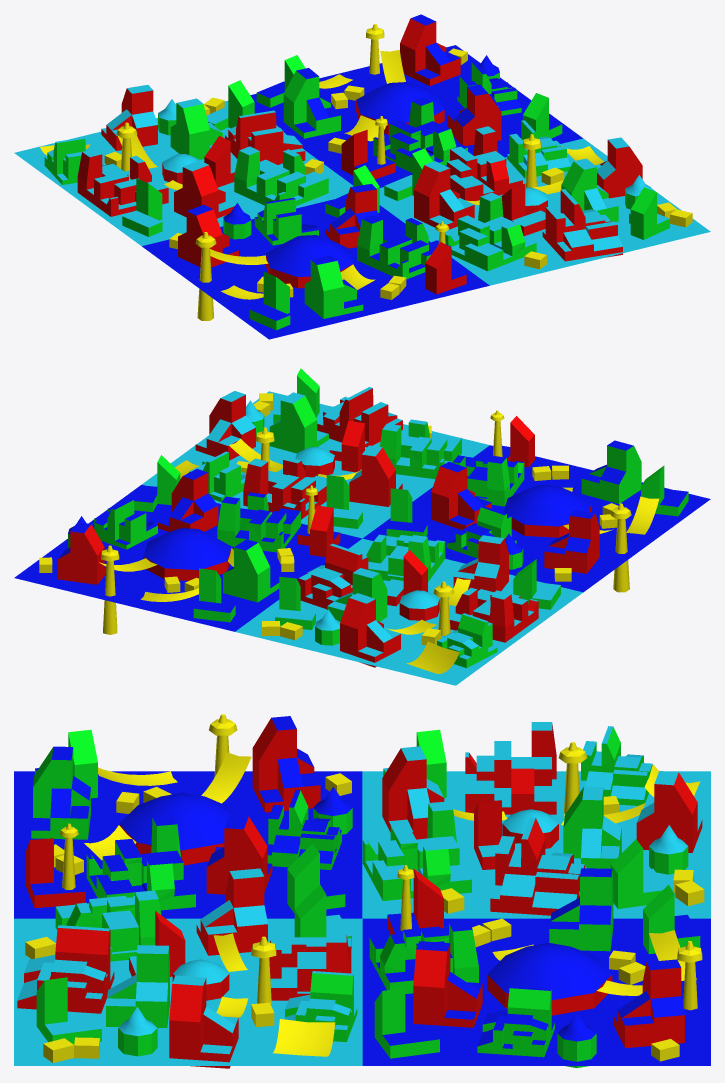
Rendered from mesh_placa_cocopolis_02.FBX.
3 views of the same model, one above another, from view 1: azimuth 30°, elevation 25°; view 2: azimuth 150°, elevation 25°; view 3: azimuth 270°, elevation 25° (orthographic). The views are drawn at different scales.
Visible parts, largest first — view 1: Placa_cocopolis_02; view 2: Placa_cocopolis_02; view 3: Placa_cocopolis_02.
Boxes of the visible parts, x1=… form: Placa_cocopolis_02: x1=14, y1=14, x2=710, y2=339; Placa_cocopolis_02: x1=14, y1=368, x2=710, y2=685; Placa_cocopolis_02: x1=14, y1=714, x2=710, y2=1068.
Size of the model in its own units: 20 by 4.03 by 20.
